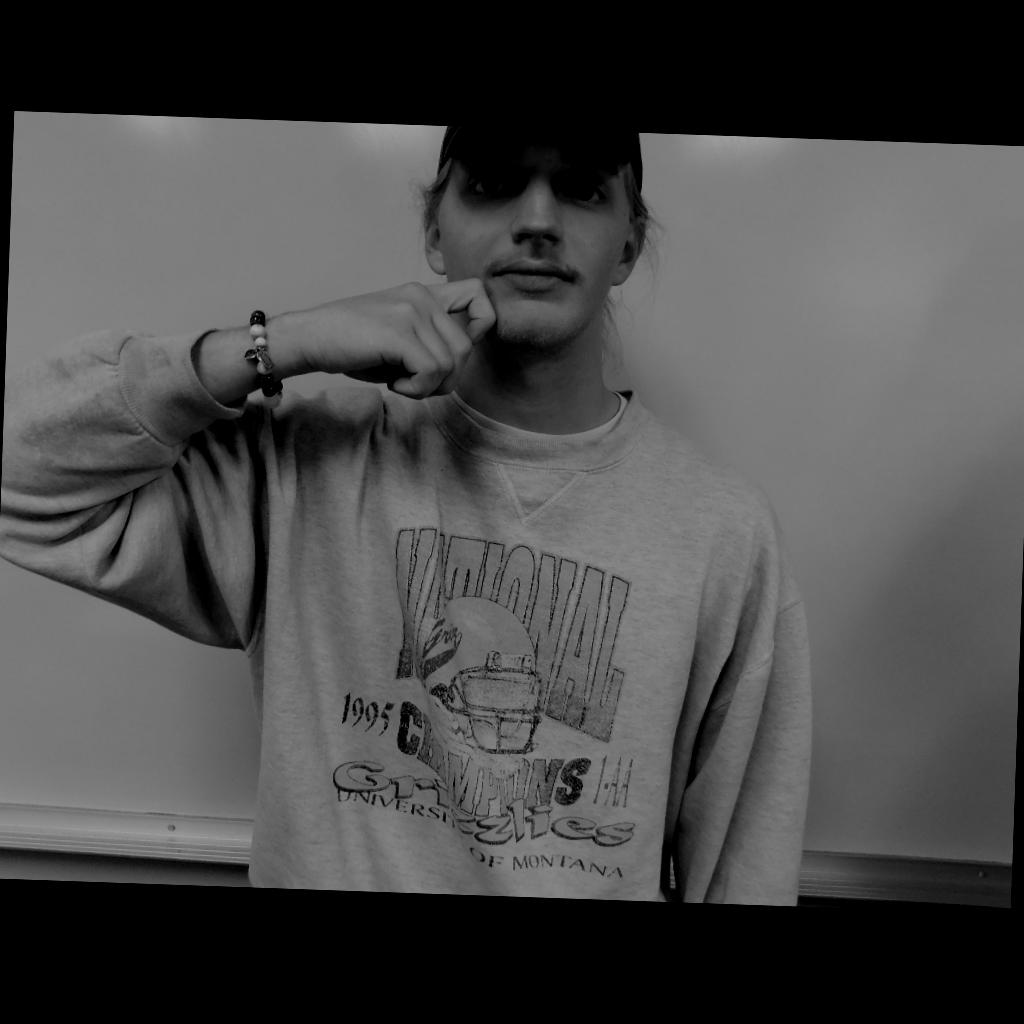apple: (308, 272, 498, 402)
